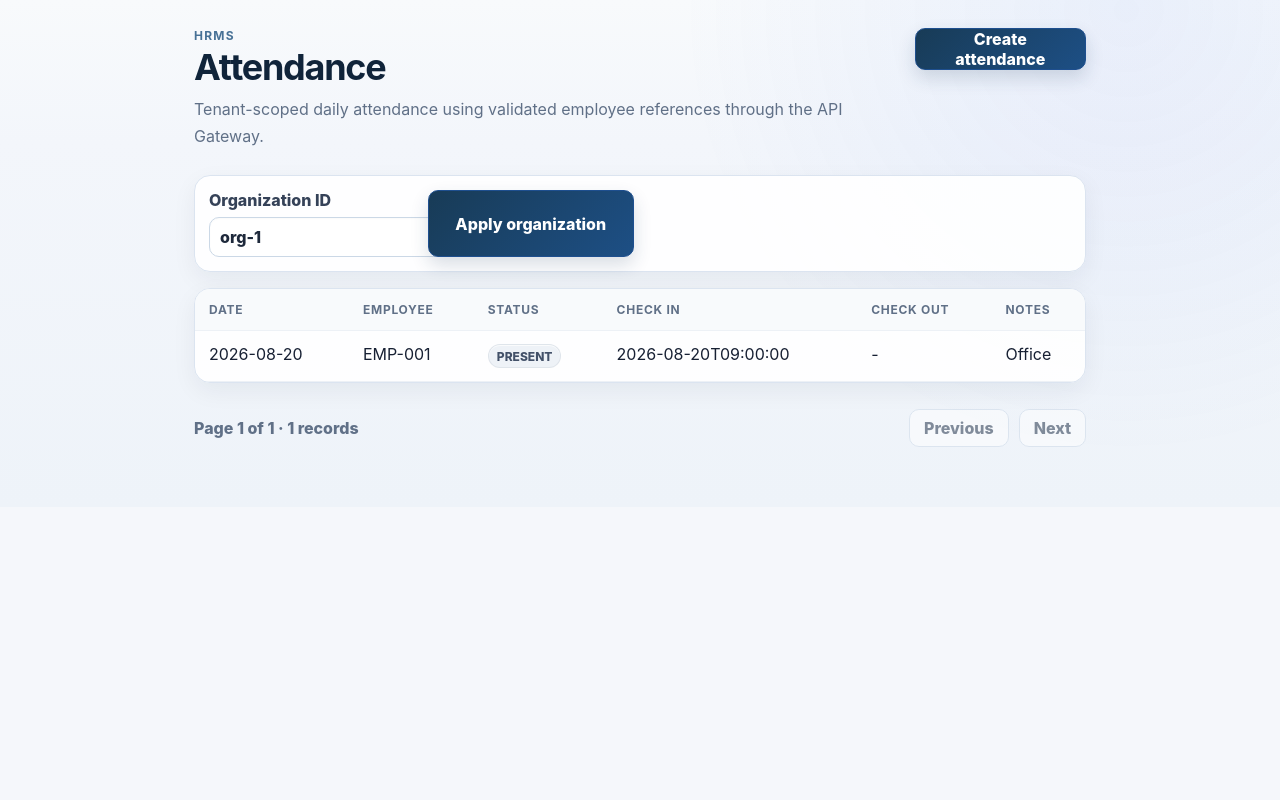
Test: AttendancePage › surfaces a duplicate attendance API error
Expected: the text "2026-08-20" is shown, [195,331,349,382]
Click the button "Create attendance" at (1000, 49), box [915,28,1086,70]
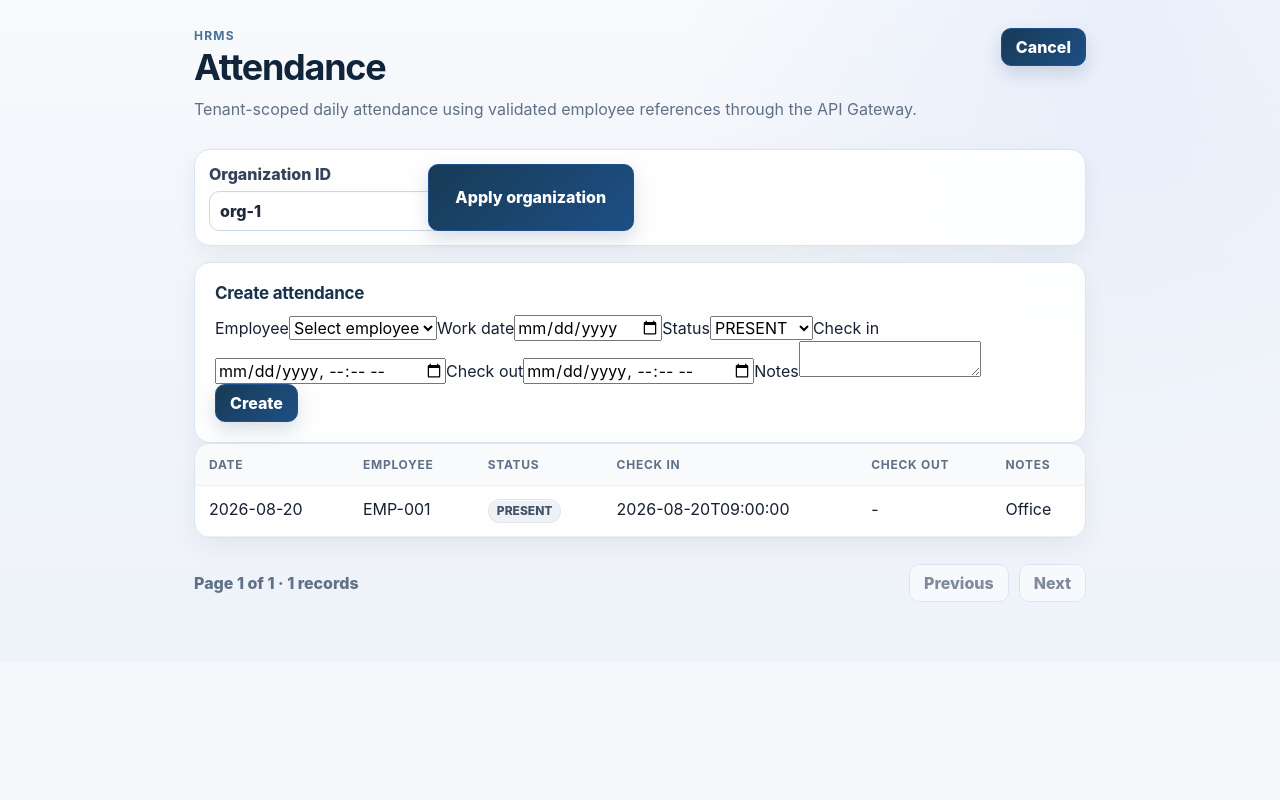
Select "EMP-001" in the dropdown labelled "Employee" at (363, 328), box [289,316,437,340]
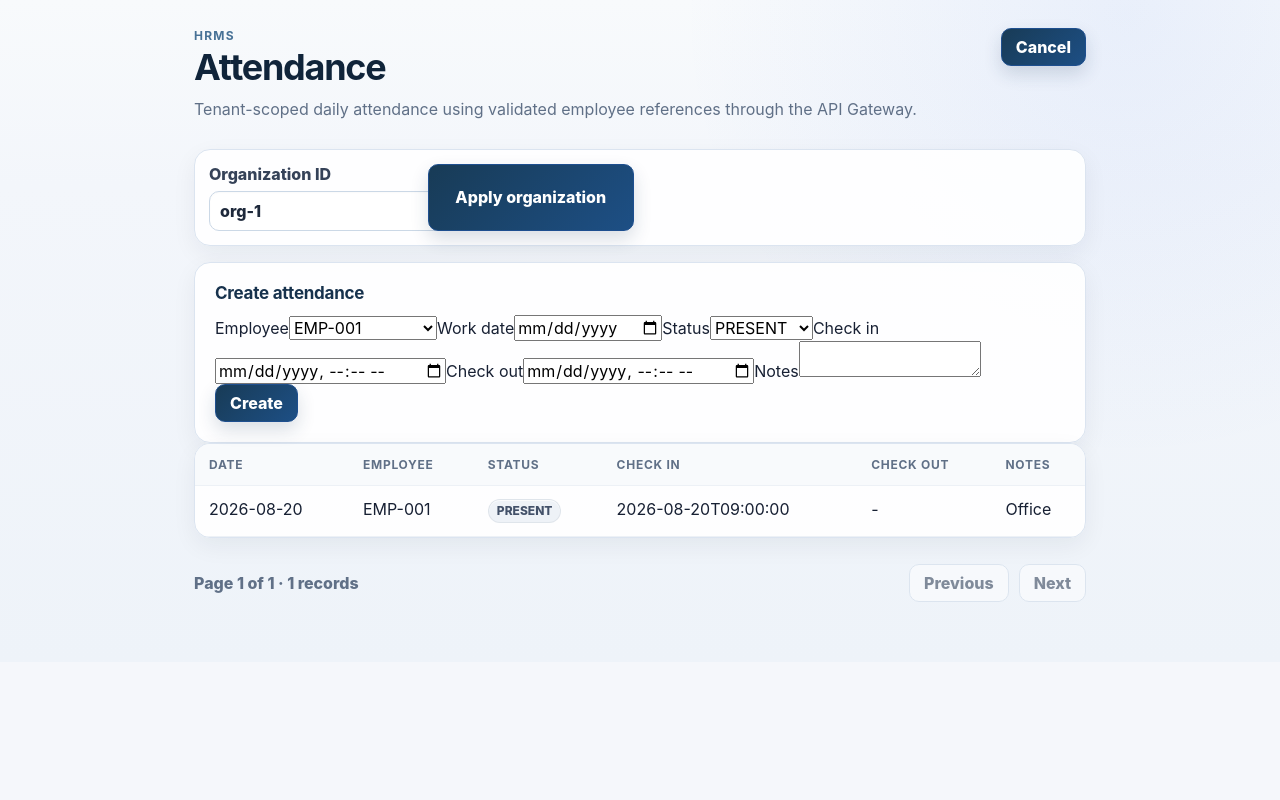
Type "2026-08-20" into the date field labelled "Work date" at (588, 328), box [514,315,662,341]
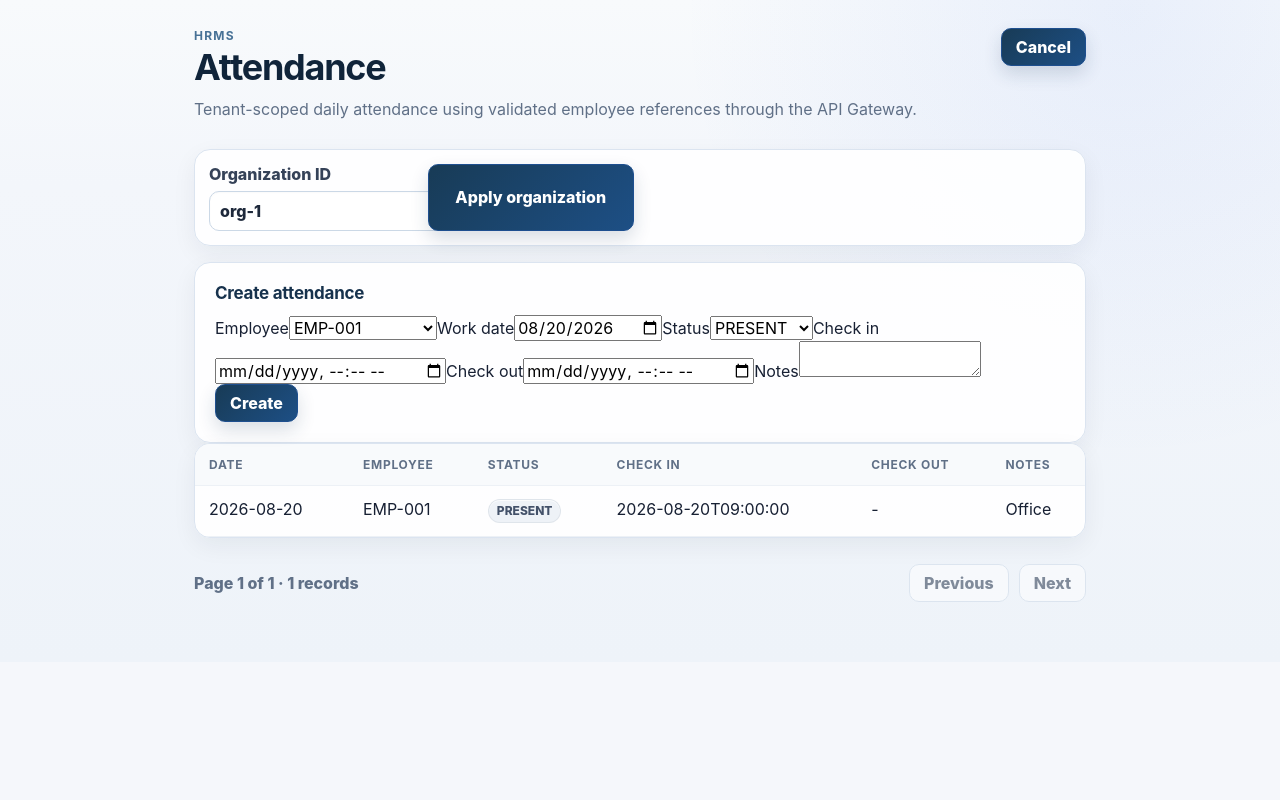
Click the button "Create" at (256, 403), box [215,384,298,422]
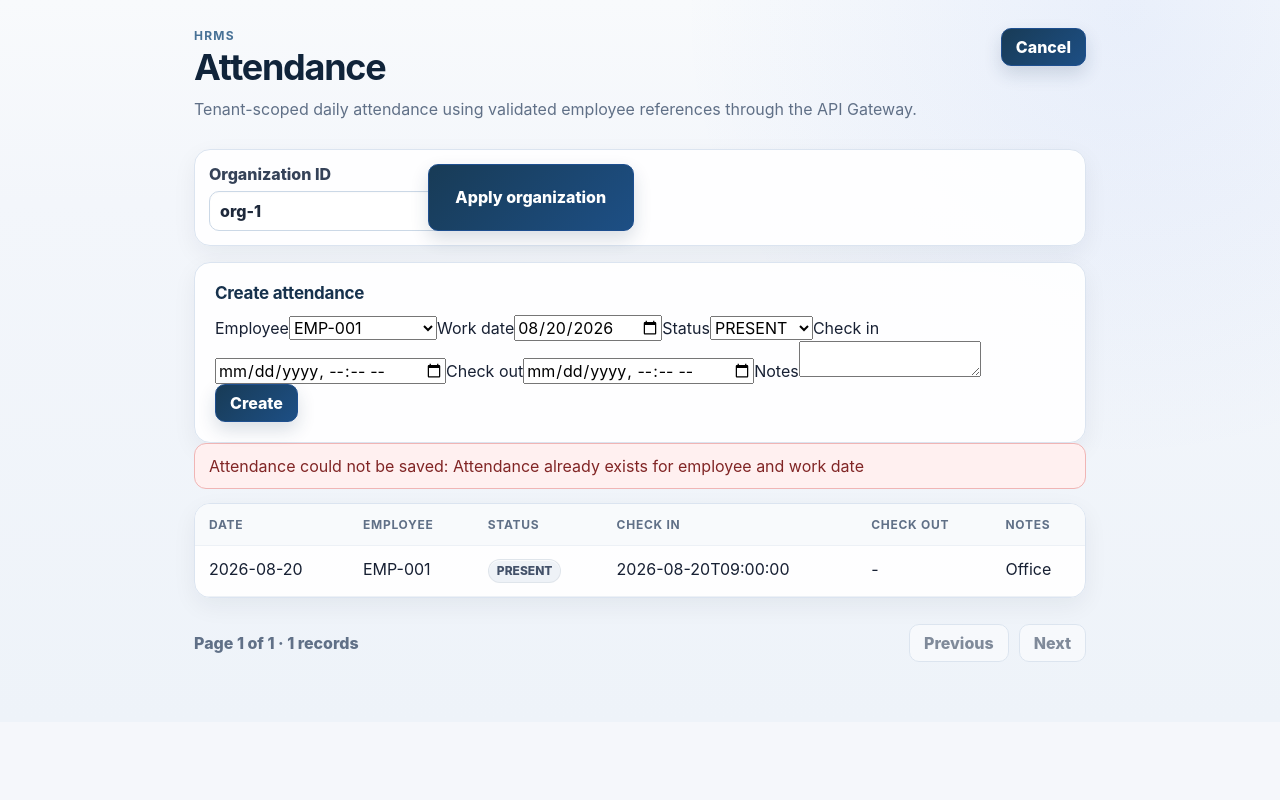
Expected: the text "Attendance could not be saved: Attendance already exists for employee and work date" is shown, [209,456,864,476]
